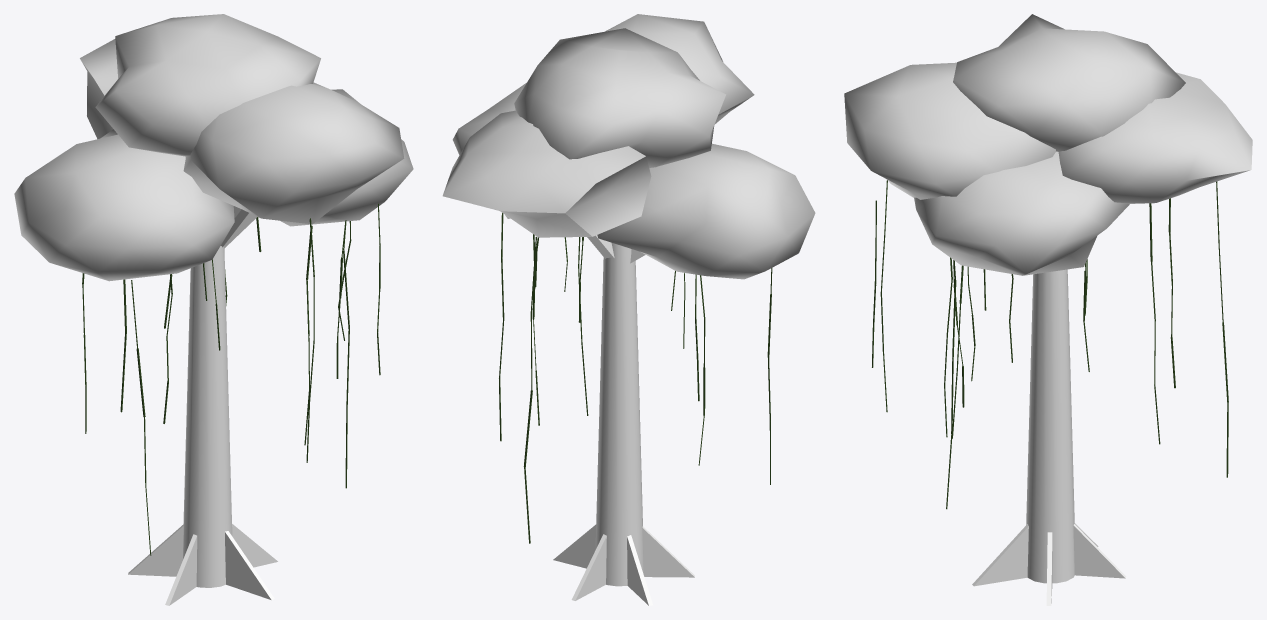
Rendered from jungle_tree_a.glb.
The picture shows the model from 3 angles, left to right: view 1: azimuth 30°, elevation 25°; view 2: azimuth 150°, elevation 25°; view 3: azimuth 270°, elevation 25°; orthographic projection. The views are drawn at different scales.
Visible parts, largest first — view 1: jungle_tree_a_T_foliage, jungle_tree_a_T_bark, jungle_tree_a_M_Vine; view 2: jungle_tree_a_T_foliage, jungle_tree_a_T_bark, jungle_tree_a_M_Vine; view 3: jungle_tree_a_T_foliage, jungle_tree_a_T_bark, jungle_tree_a_M_Vine.
Boxes of the visible parts, x1,y1,x2,y2 form: jungle_tree_a_T_foliage: (14, 14, 413, 281); jungle_tree_a_T_bark: (128, 206, 277, 605); jungle_tree_a_M_Vine: (82, 203, 380, 555); jungle_tree_a_T_foliage: (442, 14, 815, 279); jungle_tree_a_T_bark: (553, 235, 694, 605); jungle_tree_a_M_Vine: (499, 213, 772, 543); jungle_tree_a_T_foliage: (844, 14, 1252, 275); jungle_tree_a_T_bark: (972, 269, 1126, 605); jungle_tree_a_M_Vine: (872, 180, 1228, 509).
Bounding box in the file's own units: 21.05 × 31.17 × 21.48.
